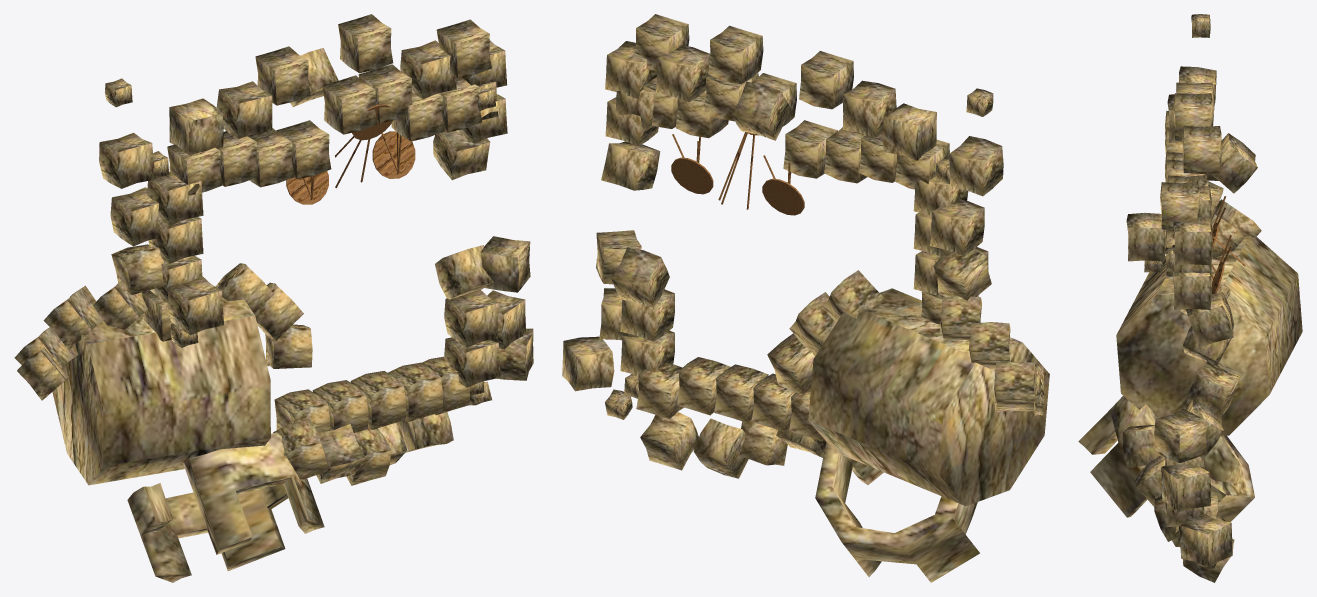
File: archery_000063.obj
3 renders of one model, left to right at view 1: azimuth 30°, elevation 25°; view 2: azimuth 150°, elevation 25°; view 3: azimuth 270°, elevation 25°, orthographic. The views are drawn at different scales.
Parts seen in each view (by area): view 1: Cylinder.060_Cylinder.040, Cylinder.110, Cylinder.111, Cylinder.112, Cylinder.102, Cylinder.087, Cylinder.078, Cylinder.083, Cylinder.084, Cylinder.100, Cylinder.076, Cylinder.085 (+37 smaller); view 2: Cylinder.060_Cylinder.040, Cylinder.110, Cylinder.111, Cylinder.112, Cylinder.100, Cylinder.087, Cylinder.085, Cylinder.083, Cylinder.075, Cylinder.099, Cylinder.068, Cylinder.092 (+36 smaller); view 3: Cylinder.060_Cylinder.040, Cylinder.110, Cylinder.112, Cylinder.070, Cylinder.068, Cylinder.069, Cylinder.087, Cylinder.102, Cylinder.071, Cylinder.074, Cylinder.091, Cylinder.086 (+19 smaller).
Boxes of the visible parts, x1,y1,x2,y2 form: Cylinder.060_Cylinder.040: [52, 286, 270, 485]; Cylinder.110: [127, 432, 324, 582]; Cylinder.111: [14, 283, 147, 400]; Cylinder.112: [216, 263, 312, 368]; Cylinder.102: [167, 276, 223, 335]; Cylinder.087: [338, 14, 393, 73]; Cylinder.078: [322, 75, 377, 134]; Cylinder.083: [169, 98, 223, 155]; Cylinder.084: [216, 81, 272, 138]; Cylinder.100: [99, 132, 155, 188]; Cylinder.076: [444, 289, 499, 347]; Cylinder.085: [255, 46, 310, 105]; Cylinder.060_Cylinder.040: [808, 288, 1049, 506]; Cylinder.110: [815, 442, 979, 582]; Cylinder.111: [940, 296, 1044, 415]; Cylinder.112: [767, 270, 883, 394]; Cylinder.100: [949, 136, 1003, 196]; Cylinder.087: [708, 25, 763, 84]; Cylinder.085: [799, 51, 853, 109]; Cylinder.083: [881, 103, 936, 160]; Cylinder.075: [611, 247, 669, 307]; Cylinder.099: [930, 199, 984, 255]; Cylinder.068: [562, 336, 614, 391]; Cylinder.092: [656, 45, 710, 102]; Cylinder.060_Cylinder.040: [1116, 236, 1302, 435]; Cylinder.110: [1078, 395, 1254, 546]; Cylinder.112: [1180, 280, 1241, 416]; Cylinder.070: [1154, 409, 1207, 462]; Cylinder.068: [1180, 514, 1232, 567]; Cylinder.069: [1161, 464, 1211, 512]; Cylinder.087: [1182, 126, 1221, 173]; Cylinder.102: [1126, 212, 1165, 261]; Cylinder.071: [1173, 217, 1212, 265]; Cylinder.074: [1186, 292, 1234, 347]; Cylinder.091: [1160, 182, 1199, 229]; Cylinder.086: [1209, 133, 1257, 193].
Size of the model in its own units: 12.91 by 12.66 by 5.35.
